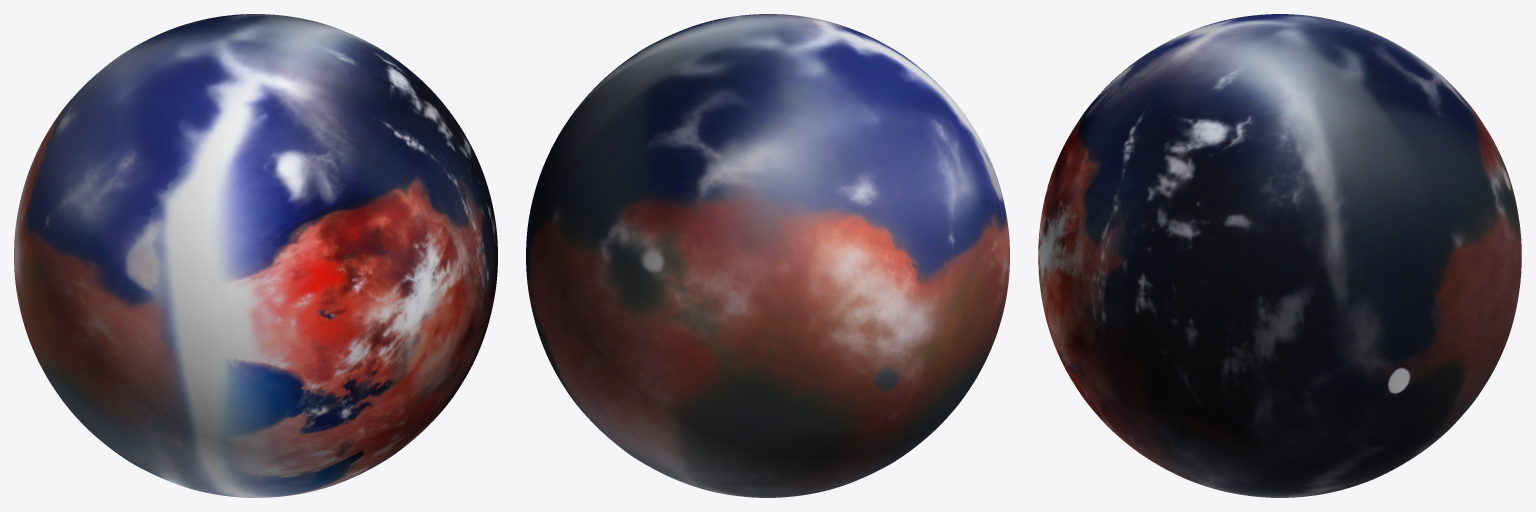
The model's file is kepller_442b.glb.
The picture shows the model from 3 angles, left to right: view 1: azimuth 30°, elevation 25°; view 2: azimuth 150°, elevation 25°; view 3: azimuth 270°, elevation 25°; orthographic projection.
Bounding box in the file's own units: 2 × 2 × 2.
Materials: 1 (1 with a texture image).
